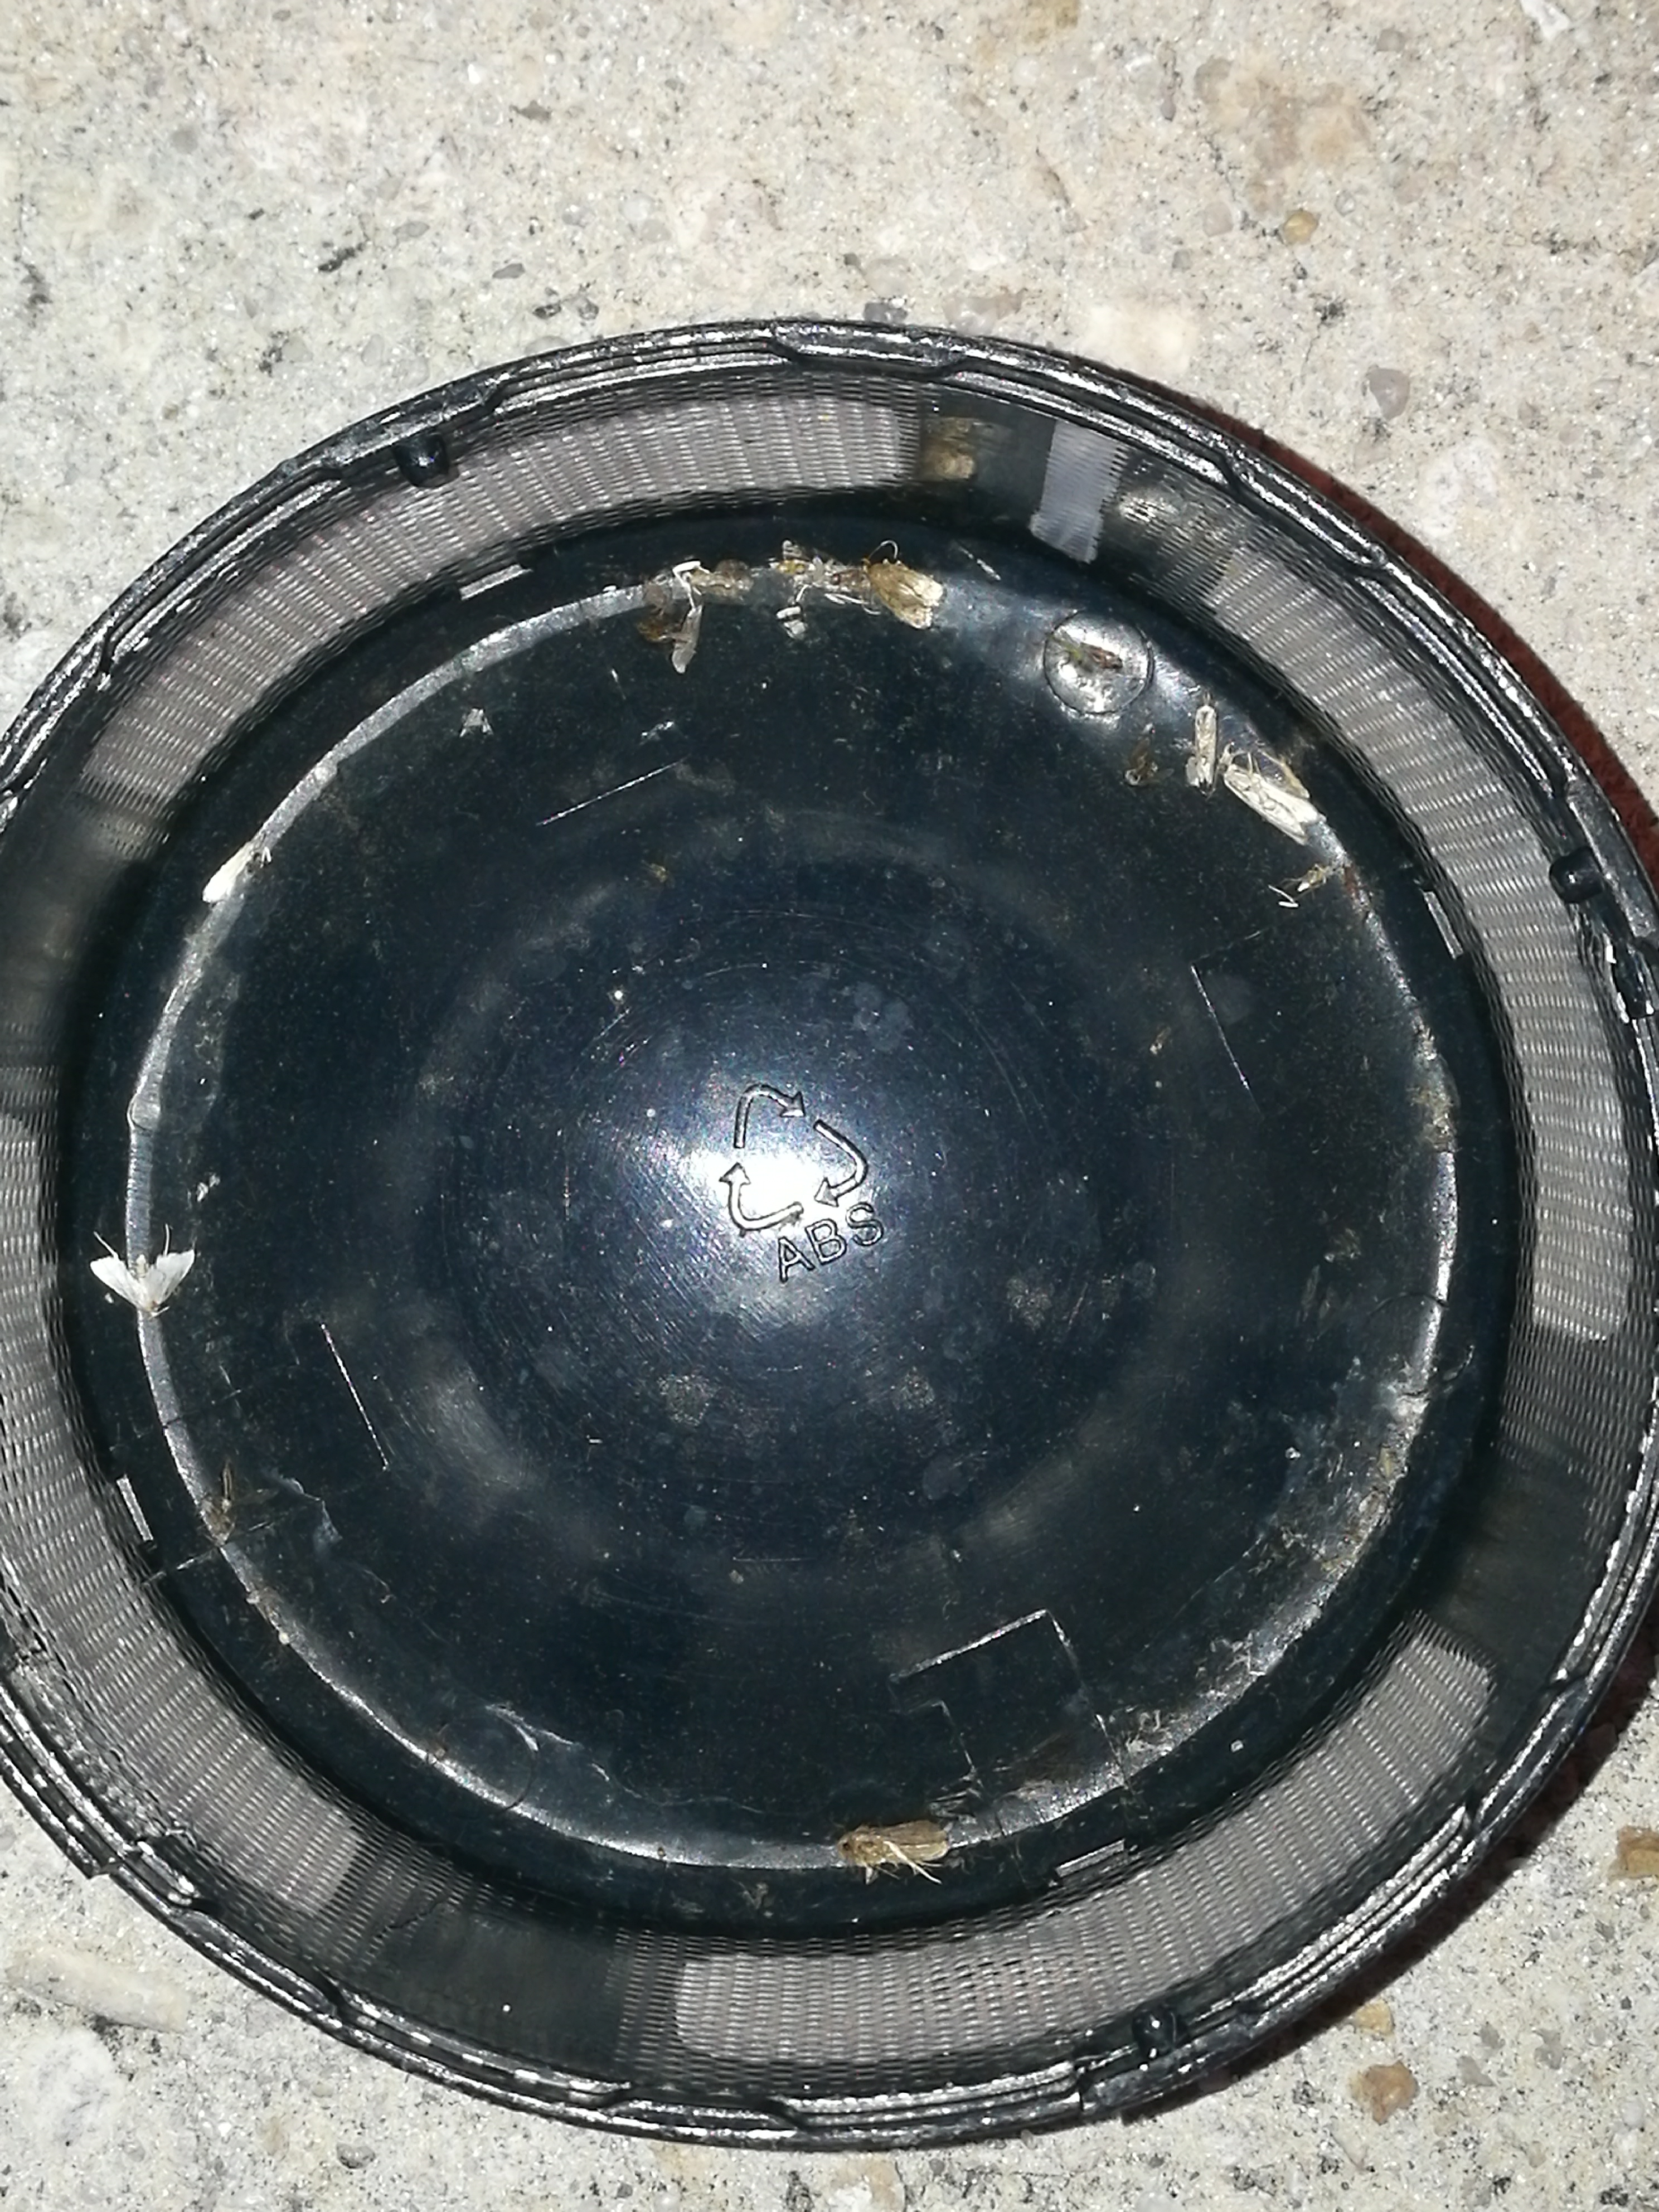mosquito: (1218, 763, 1317, 846), (202, 841, 256, 902), (1190, 707, 1216, 787)
moth: (92, 1252, 193, 1313), (840, 1817, 946, 1865), (864, 564, 939, 627)
